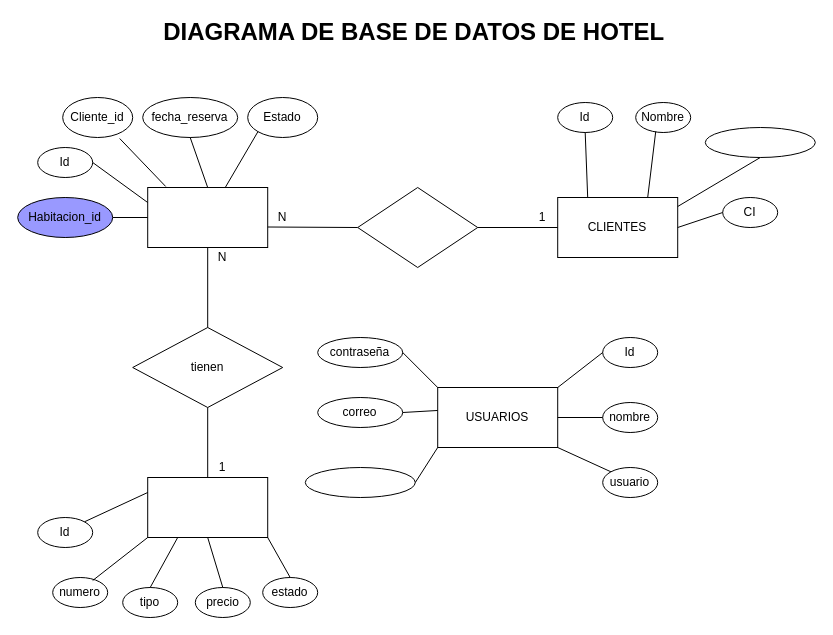
This 833x635 diagram has some shape labels left out. Here are the shapes that lost their labels. From the top down, the centre of each, then its label:
point (759, 142): fecha_registro
point (207, 217): RESERVAS
point (417, 227): hace
point (359, 482): fecha_creacion
point (207, 507): HABITACIONES
